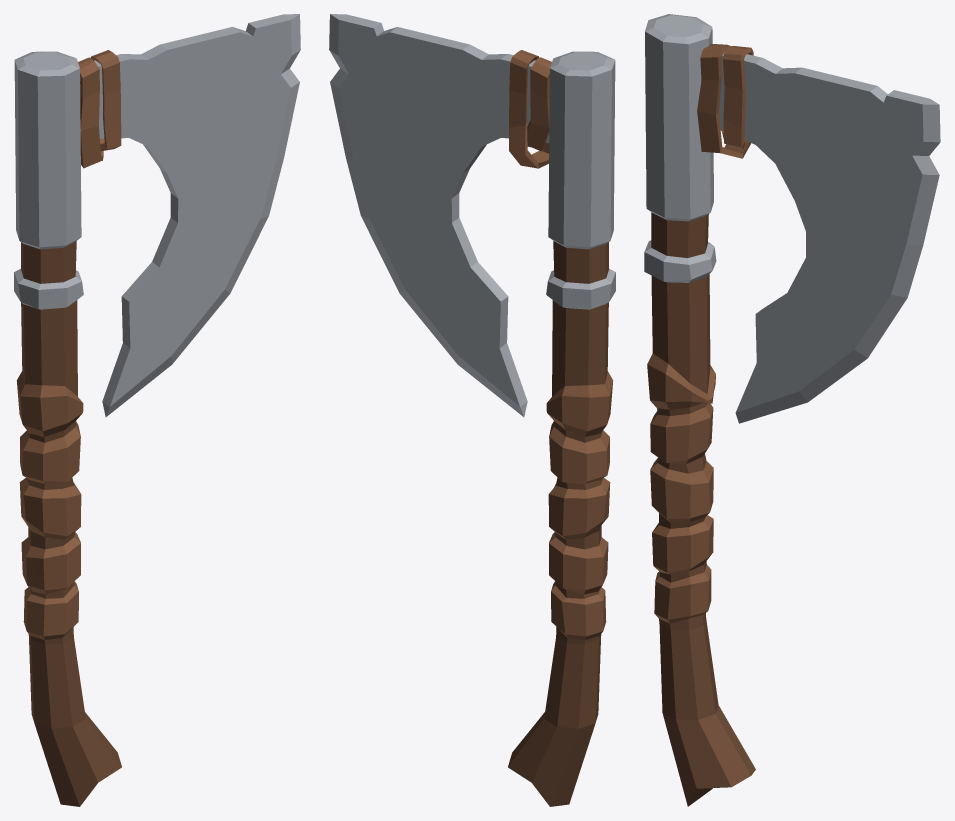
File: Axe_Small.glb
The picture shows the model from 3 angles, left to right: view 1: azimuth 30°, elevation 25°; view 2: azimuth 150°, elevation 25°; view 3: azimuth 330°, elevation 25°; orthographic projection. The views are drawn at different scales.
Visible parts, largest first — view 1: Axe_small; view 2: Axe_small; view 3: Axe_small.
Boxes of the visible parts, left/top/right/bottom form: Axe_small: left=14, top=14, right=300, bottom=806; Axe_small: left=329, top=14, right=615, bottom=806; Axe_small: left=644, top=14, right=940, bottom=806.
Size of the model in its own units: 1.17 by 2.96 by 0.2482.
